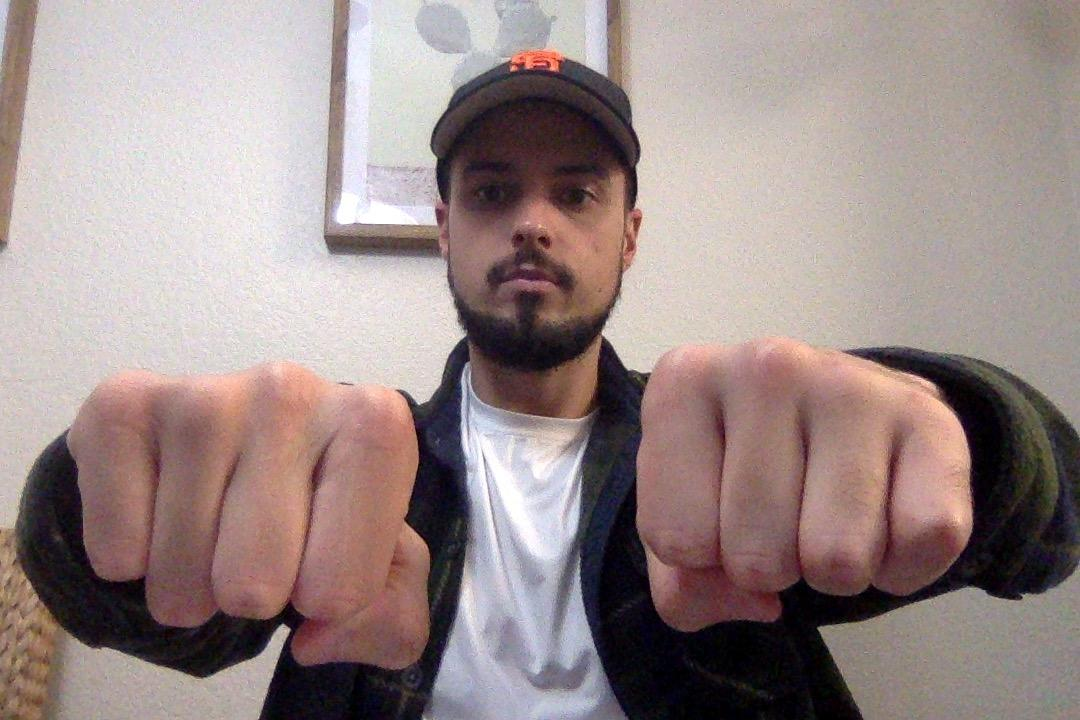Oncoming-Punch: (57, 370, 453, 677), (630, 343, 979, 634)
